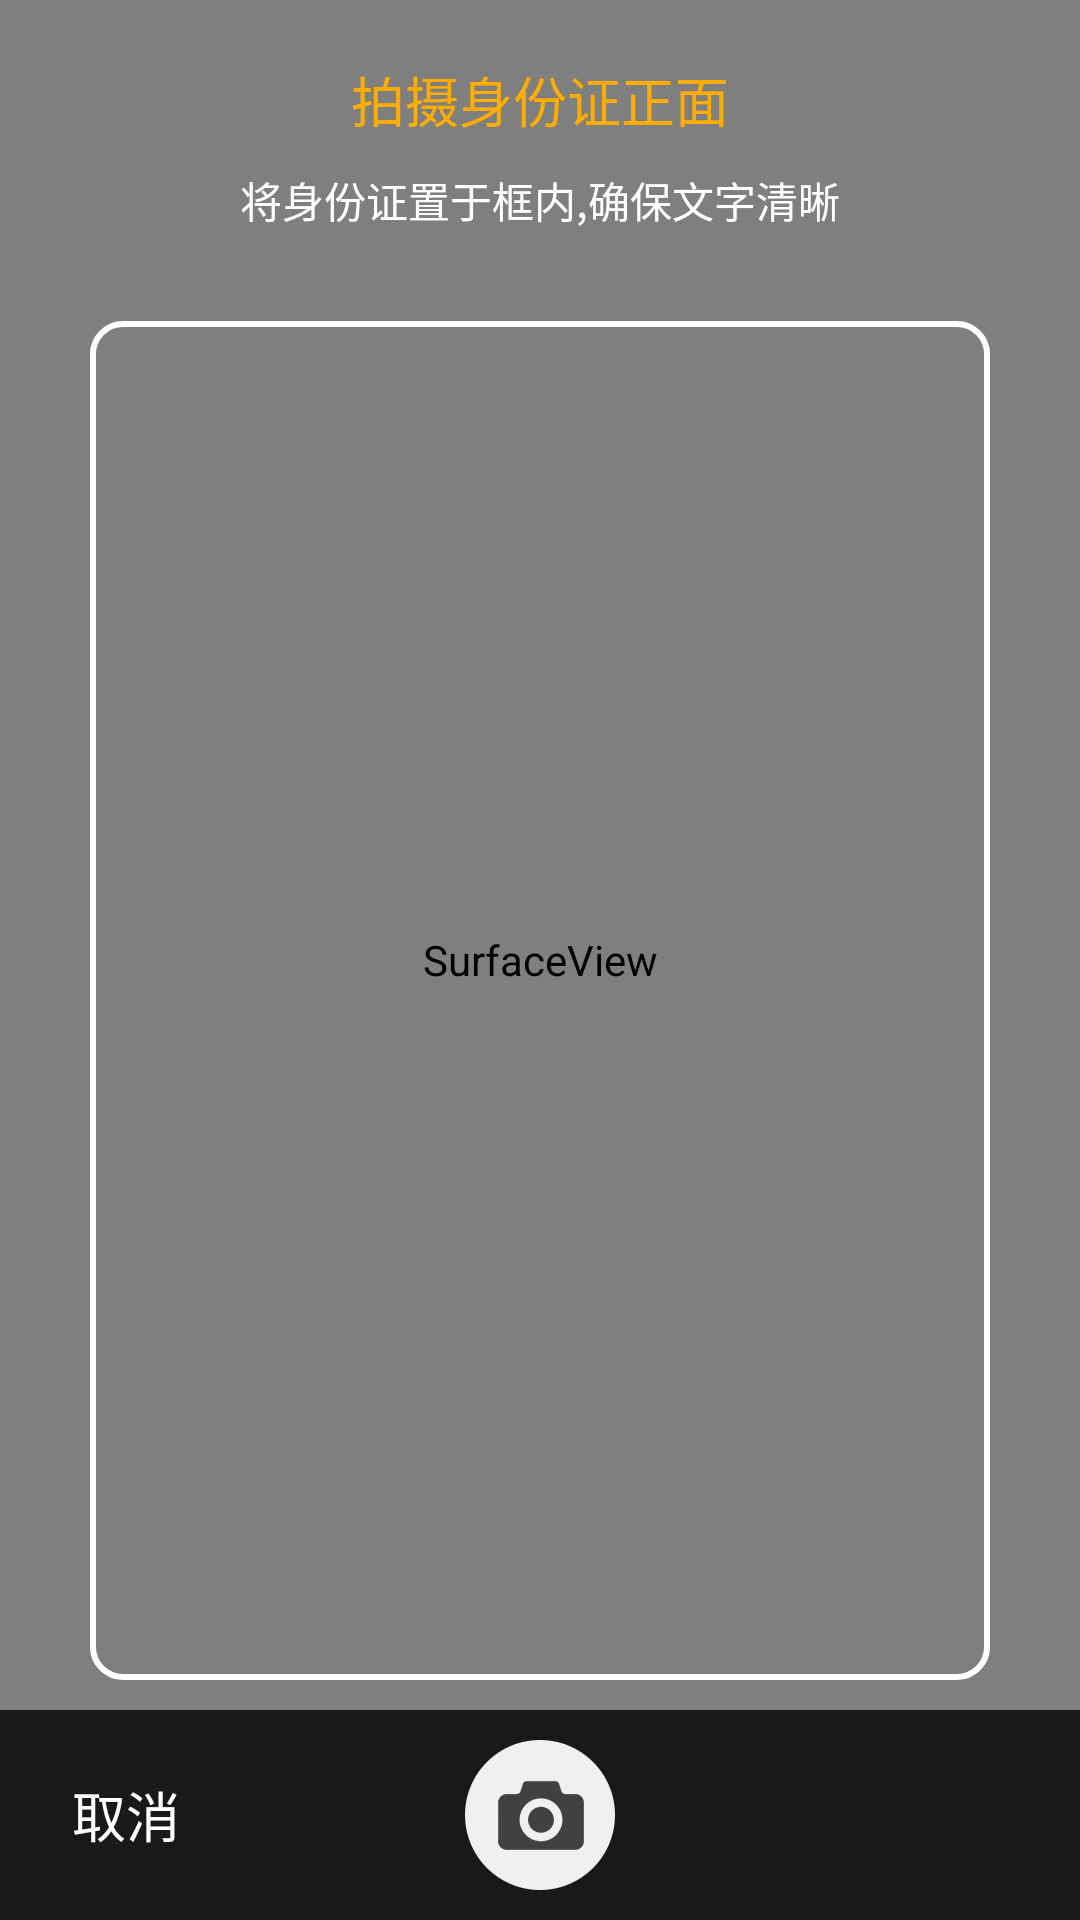

Icons on this 1080 × 1920 Android screen, each with the point to tap as (x,y):
photo ok: (540,1815)
